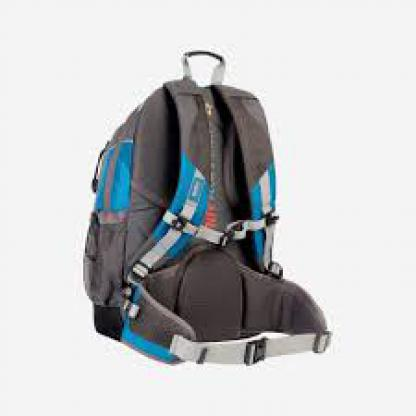morral: (80, 28, 353, 373)
